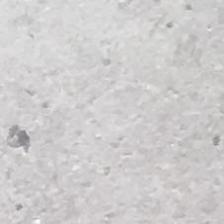Non_Crack: (46, 25, 192, 205)
